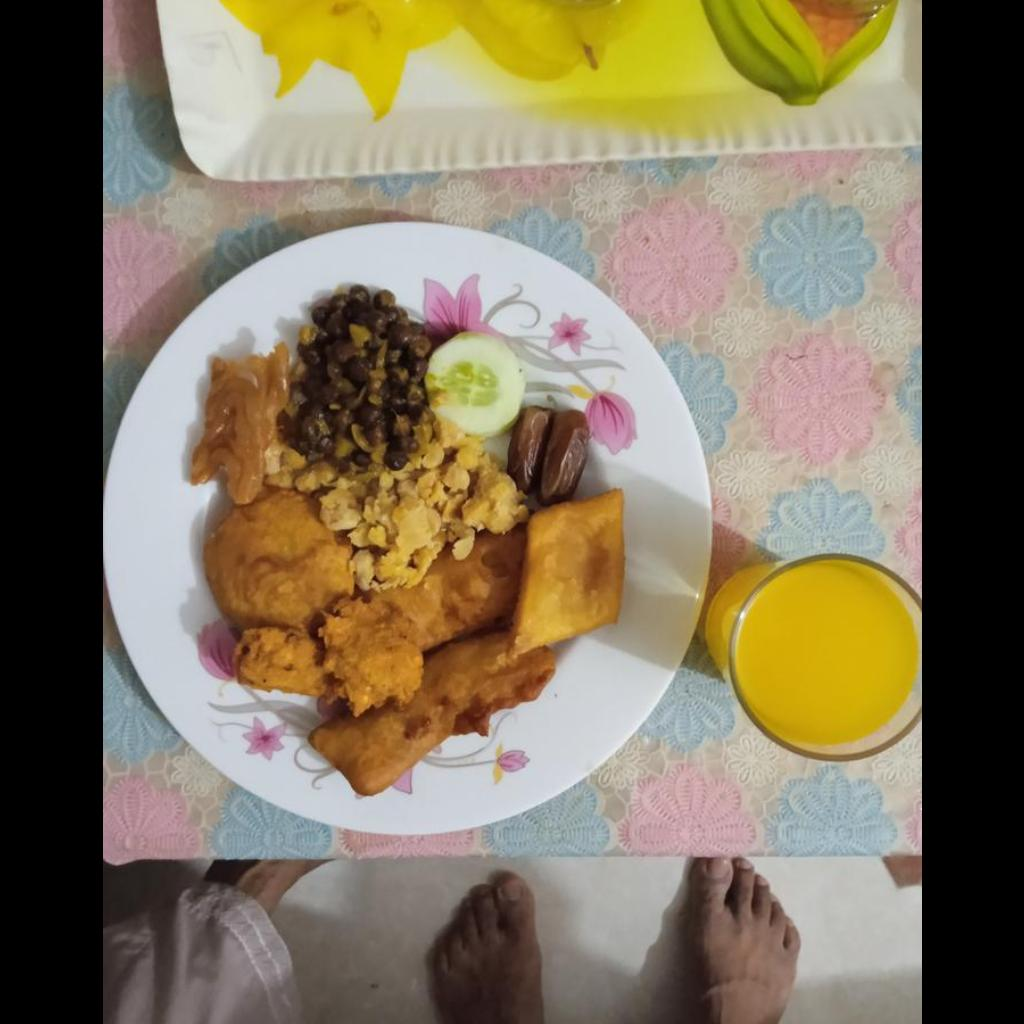beguni: (304, 555, 549, 795)
chola: (290, 291, 517, 595)
chop-alu: (206, 489, 345, 620)
cucumber: (431, 332, 524, 437)
dates: (508, 403, 589, 502)
jilapi: (187, 347, 291, 502)
juice: (737, 562, 918, 749)
peyaju: (233, 606, 419, 716)
sweets: (509, 490, 628, 657)
